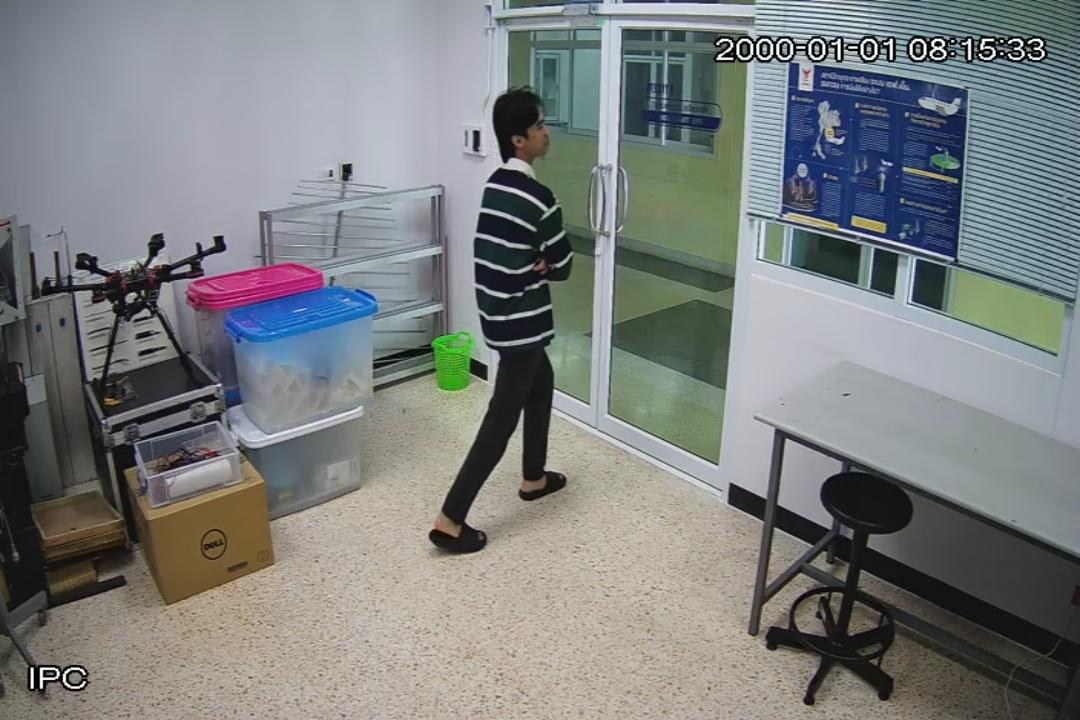normal: (428, 87, 578, 556)
